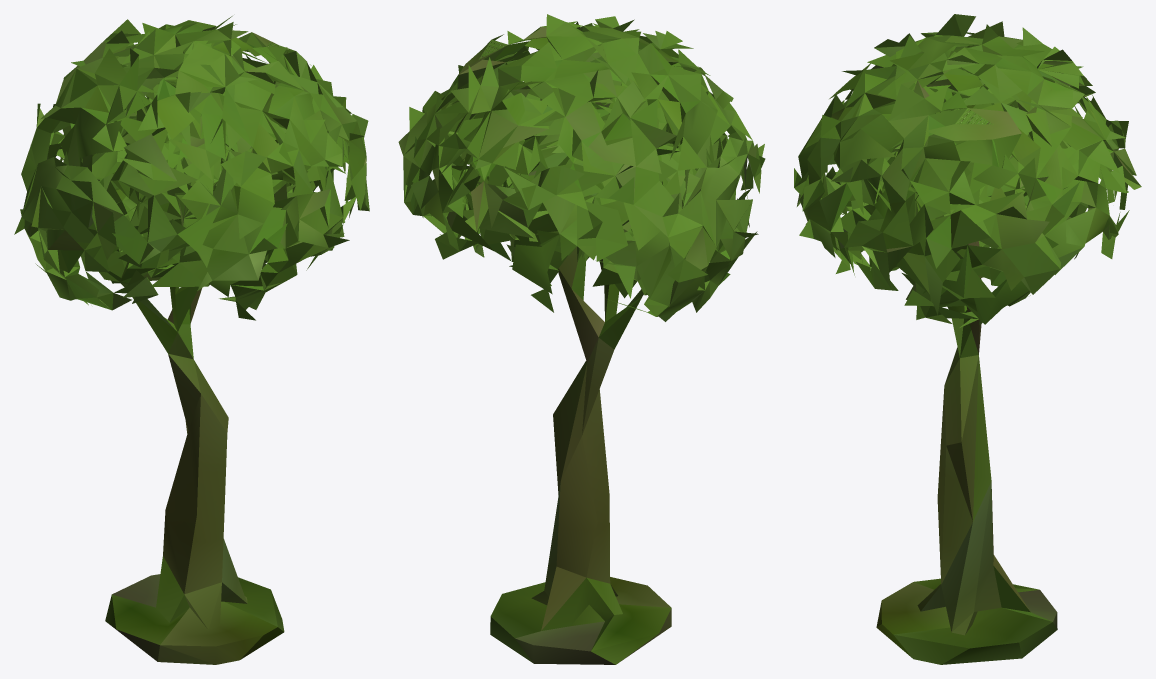
File: addy_tree.glb
3 views of the same model, side by side, from view 1: azimuth 30°, elevation 25°; view 2: azimuth 150°, elevation 25°; view 3: azimuth 270°, elevation 25° (orthographic). The views are drawn at different scales.
Size of the model in its own units: 1.06 by 1.9 by 1.01.
Materials: 1 (1 with a texture image).
